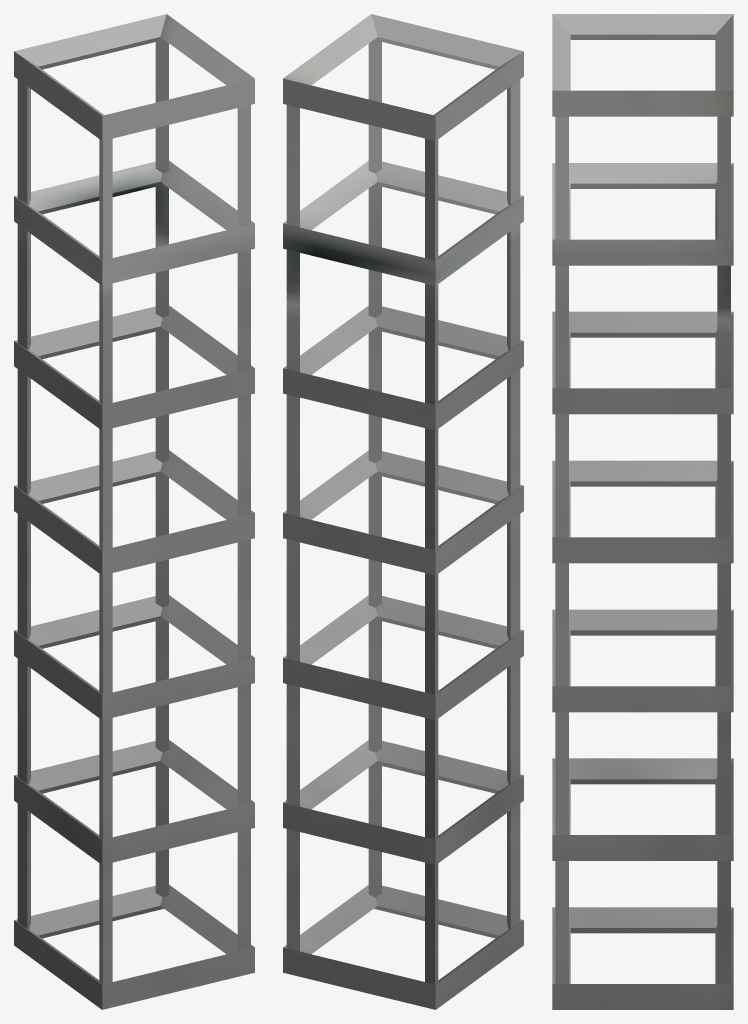
The model's file is strut2.DAE.
The picture shows the model from 3 angles, left to right: view 1: azimuth 30°, elevation 25°; view 2: azimuth 150°, elevation 25°; view 3: azimuth 270°, elevation 25°; orthographic projection. The views are drawn at different scales.
Parts seen in each view (by area): view 1: strut; view 2: strut; view 3: strut.
Boxes of the visible parts, <box> form: strut: <box>14,14,254,1009</box>; strut: <box>283,14,523,1009</box>; strut: <box>552,14,733,1009</box>.
Size of what is drawn, in the model's own units: 0.1379 by 0.7711 by 0.1379.
